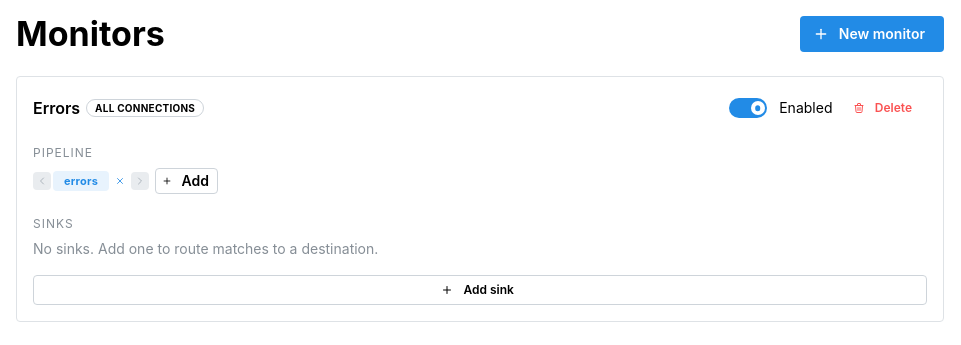
Test: requires confirmation before deletion and refreshes after deleting the selected monitor
This screenshot has width=961, height=345.
Click the button "Delete": [885, 108] box [842,93,927,123]
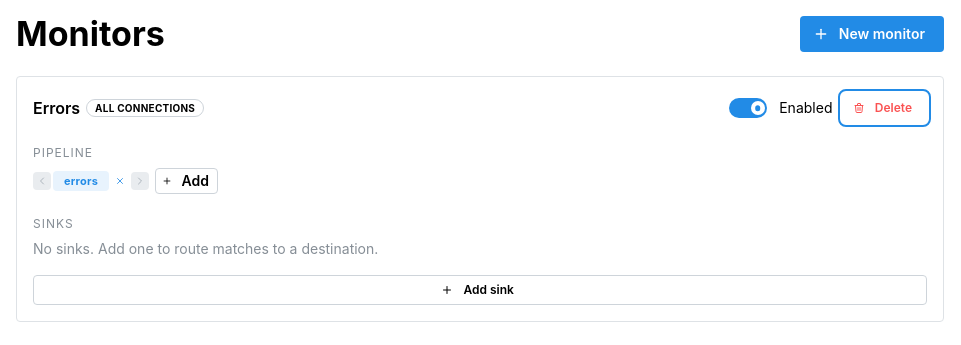
Click the button "Delete": [885, 108] box [842,93,927,123]
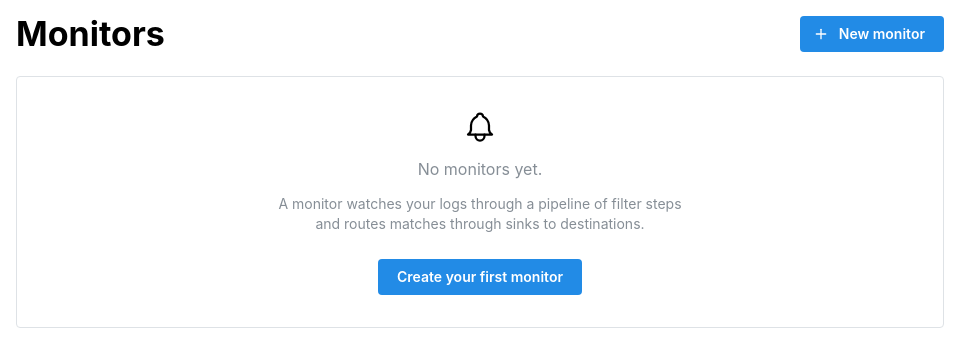
Now the text "No monitors yet." is shown, box [418,157,542,182]
